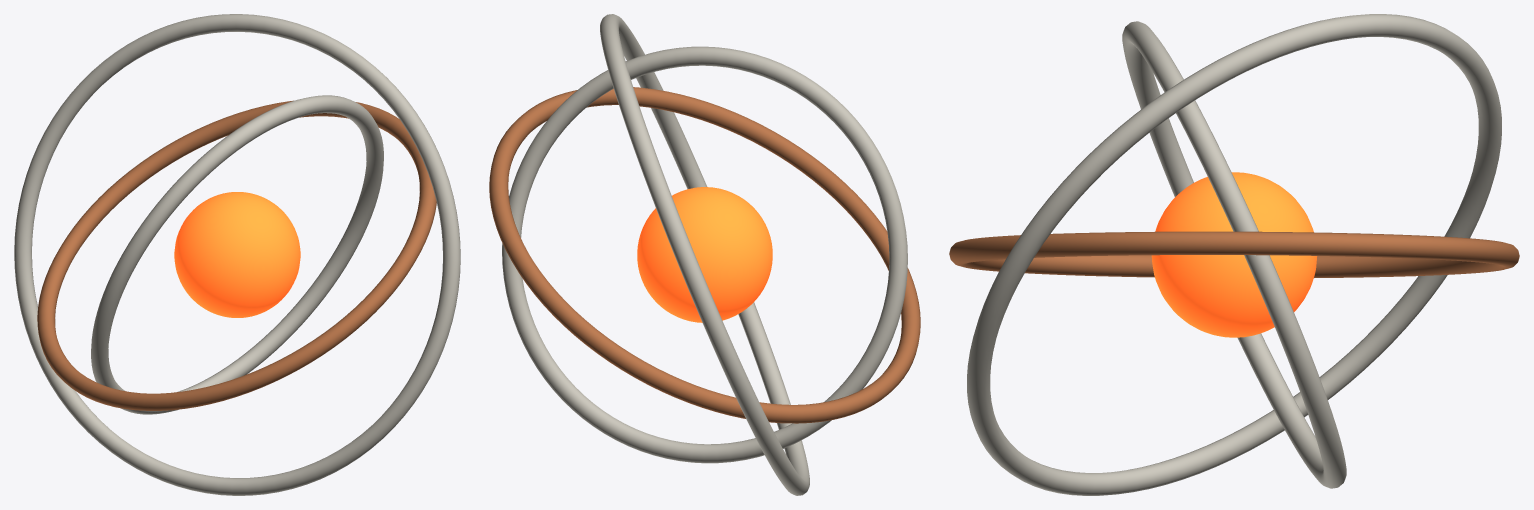
File: adief-orbital-sculpture.glb
3 renders of one model, left to right at view 1: azimuth 30°, elevation 25°; view 2: azimuth 150°, elevation 25°; view 3: azimuth 270°, elevation 25°, orthographic. The views are drawn at different scales.
Visible parts, largest first — view 1: Titanium outer orbit, Copper middle orbit, Titanium inner orbit, Amber core; view 2: Titanium inner orbit, Copper middle orbit, Titanium outer orbit, Amber core; view 3: Titanium outer orbit, Copper middle orbit, Titanium inner orbit, Amber core.
Part boxes in pixels (x1,y1,x2,y2): Titanium outer orbit: (14, 14, 460, 495); Copper middle orbit: (37, 100, 436, 410); Titanium inner orbit: (91, 95, 383, 414); Amber core: (174, 192, 300, 317); Titanium inner orbit: (502, 46, 907, 463); Copper middle orbit: (489, 87, 920, 423); Titanium outer orbit: (600, 14, 809, 495); Amber core: (637, 187, 772, 322); Titanium outer orbit: (967, 14, 1501, 495); Copper middle orbit: (949, 231, 1519, 277); Titanium inner orbit: (1122, 21, 1346, 488); Amber core: (1151, 172, 1317, 337).
Size of the model in its own units: 2.83 by 3.26 by 3.17.
